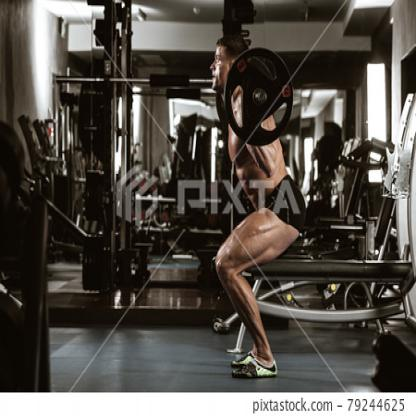Barbell: (220, 38, 298, 148)
